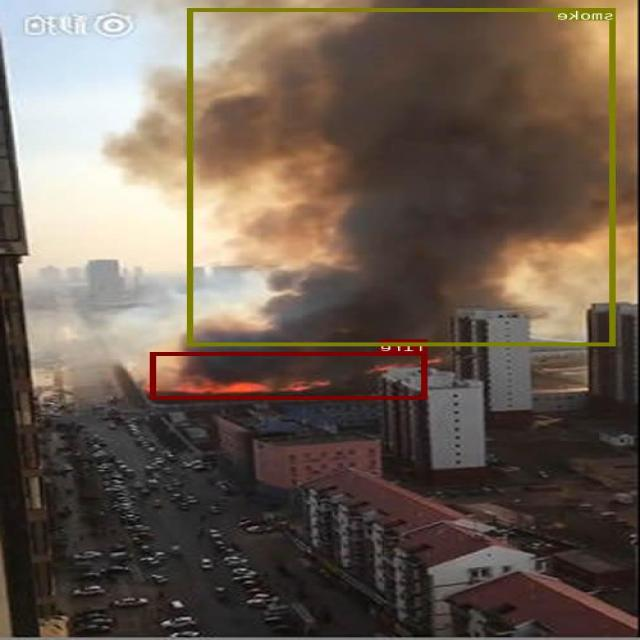fire: (151, 352, 428, 398)
smoke: (189, 7, 617, 345)
